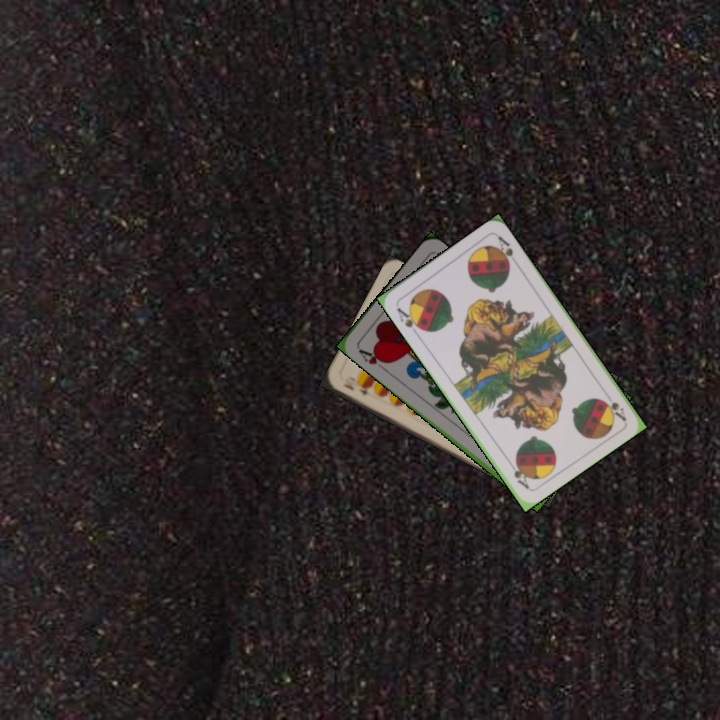E10: (338, 378, 375, 400)
HA: (354, 345, 392, 373)
SA: (392, 303, 426, 338), (599, 387, 629, 423)
